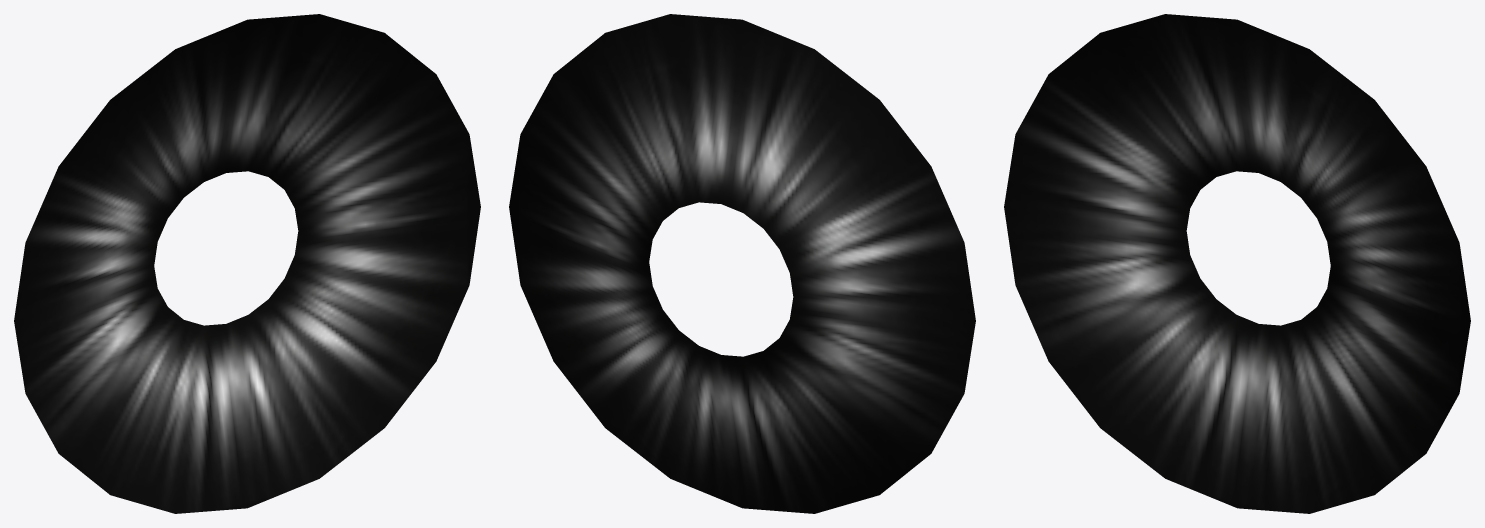
File: fbx_skill_x_102_staff_skill_6.FBX
3 views of the same model, side by side, from view 1: azimuth 30°, elevation 25°; view 2: azimuth 150°, elevation 25°; view 3: azimuth 330°, elevation 25° (orthographic).
Visible parts, largest first — view 1: powercharge; view 2: powercharge; view 3: powercharge.
Part boxes in pixels (box(x1,y1,x2,y2)): powercharge: box(14, 14, 480, 513); powercharge: box(509, 14, 975, 513); powercharge: box(1004, 14, 1470, 513).
Size of the model in its own units: 282 by 22.18 by 282.
1 material, 1 textured.
